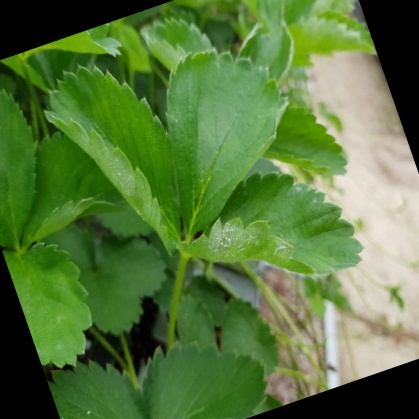Powdery_Leaf: (179, 55, 322, 236), (84, 28, 197, 257), (163, 189, 346, 312)
